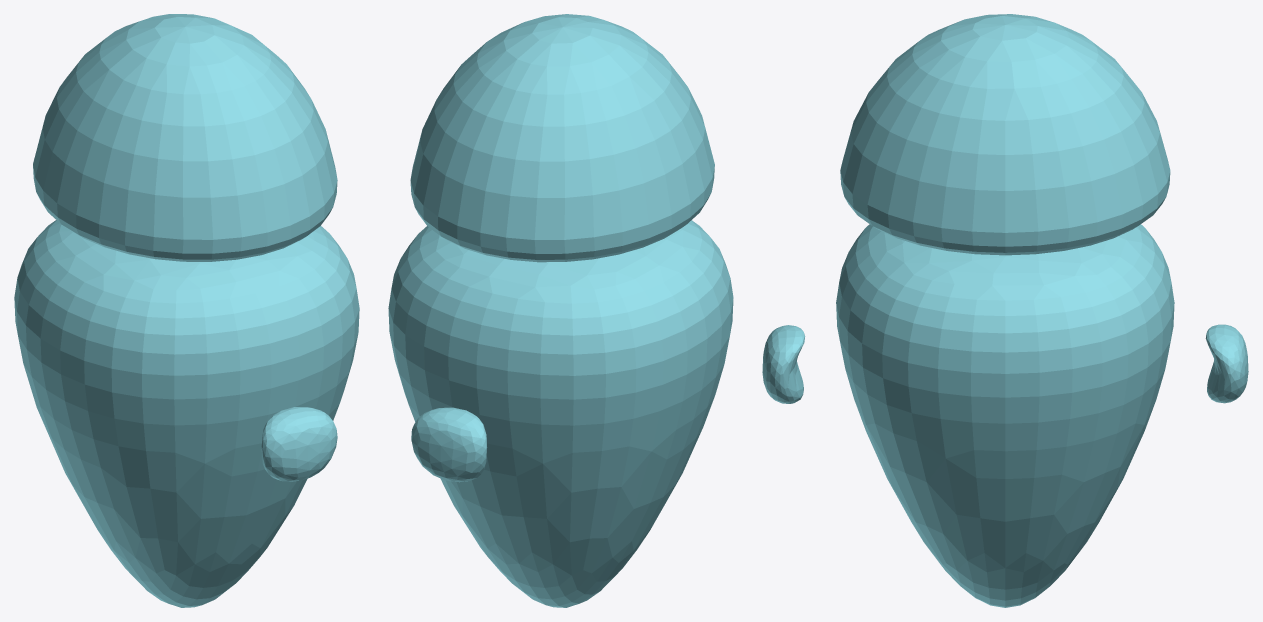
File: npc_manos_separadas.fbx
3 renders of one model, left to right at view 1: azimuth 30°, elevation 25°; view 2: azimuth 150°, elevation 25°; view 3: azimuth 270°, elevation 25°, orthographic.
Visible parts, largest first — view 1: Body, RightHand; view 2: Body, LeftHand; view 3: Body, LeftHand, RightHand.
Part boxes in pixels (box(x1,y1,x2,y2)): Body: box(14, 14, 359, 607); RightHand: box(261, 407, 337, 481); Body: box(388, 14, 733, 607); LeftHand: box(411, 407, 487, 482); Body: box(836, 14, 1174, 607); LeftHand: box(1205, 324, 1248, 403); RightHand: box(762, 325, 805, 403).
Size of the model in its own units: 89.1 by 168 by 128.
